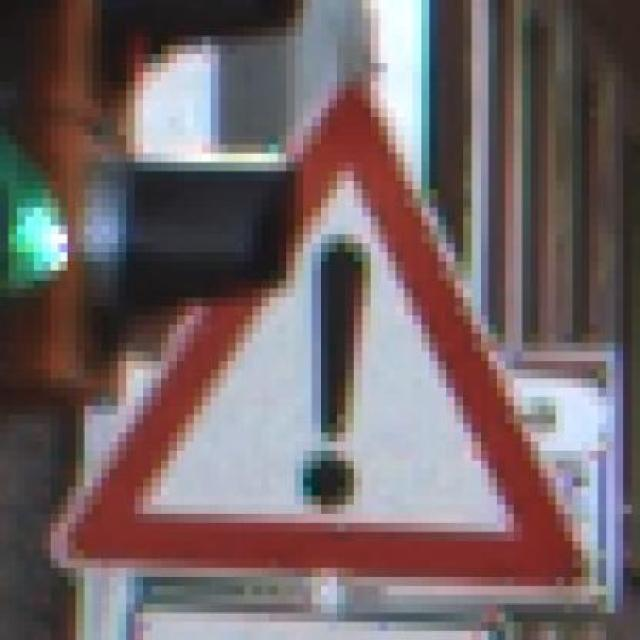Attention Please-: (44, 62, 602, 603)
